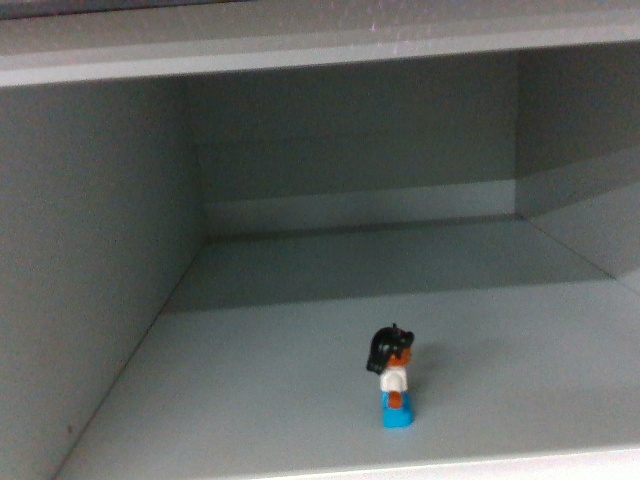people: (359, 323, 418, 431)
